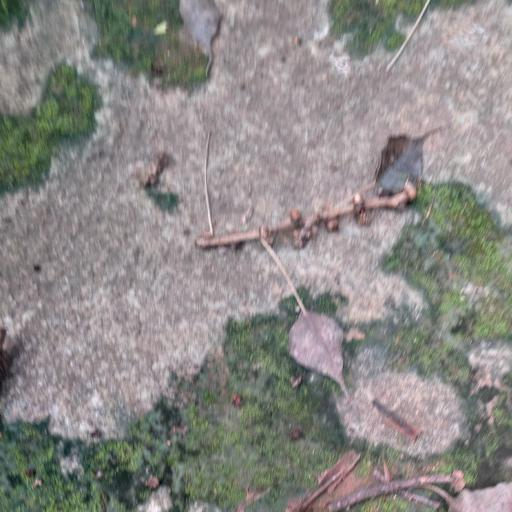algae: (7, 218, 512, 512)
